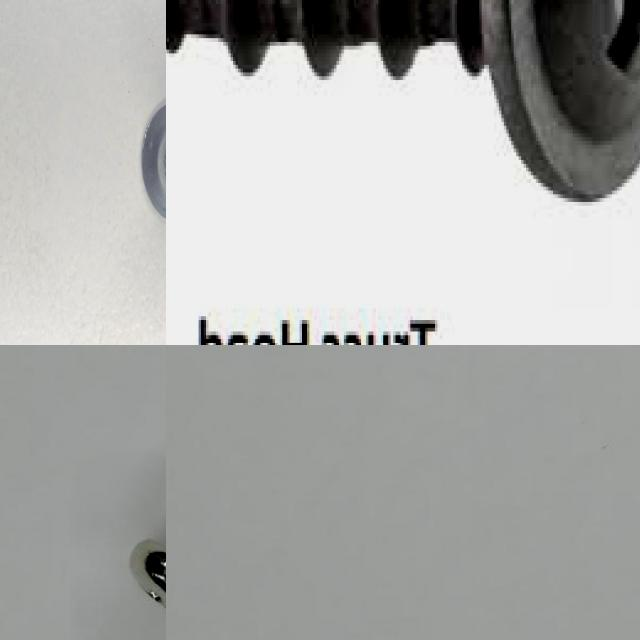Screw: (166, 0, 640, 206), (139, 96, 166, 224)
